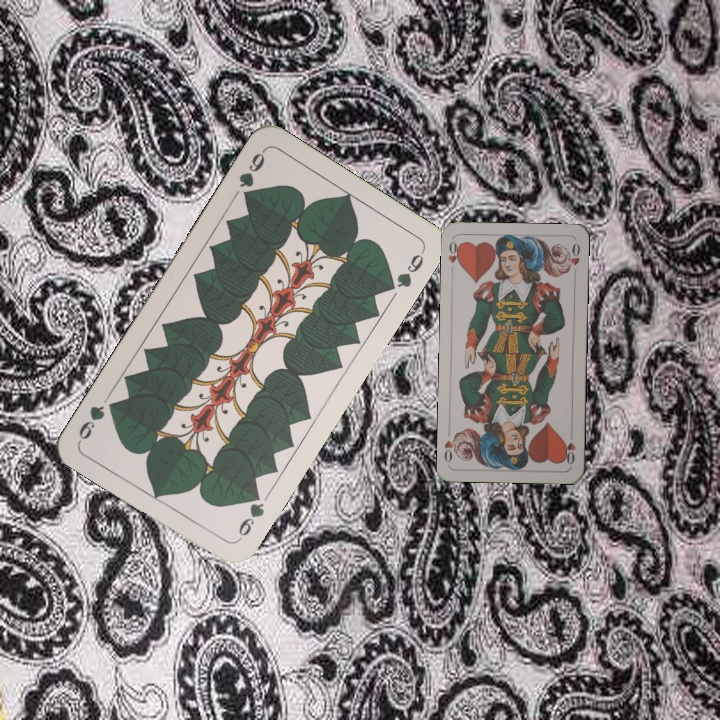G9: (234, 145, 268, 204), (233, 486, 267, 544)
HO: (444, 237, 464, 277), (560, 427, 578, 467)
